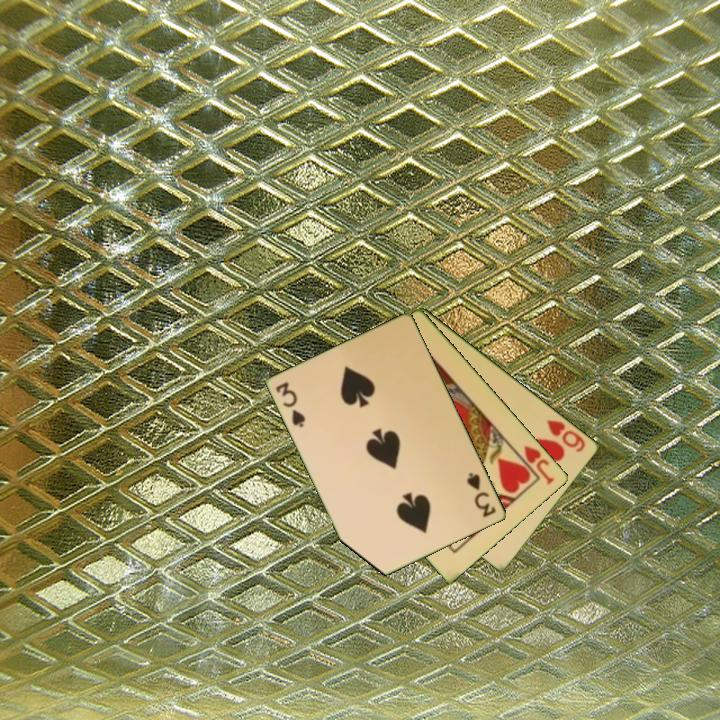3s: (272, 378, 309, 430), (464, 469, 499, 520)
6h: (543, 416, 589, 455)
Jh: (521, 441, 558, 488)
